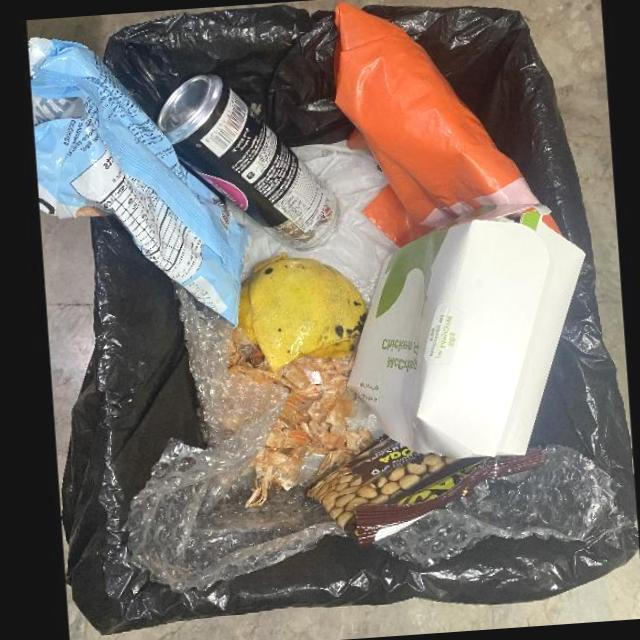bao_bi_thuc_pham: (26, 35, 250, 325), (305, 434, 543, 547)
carton: (345, 202, 585, 458)
nhom: (155, 72, 338, 251)
thuc_an_thua: (226, 326, 372, 507)
tui_ni_long: (125, 282, 348, 593), (333, 0, 563, 247), (376, 443, 622, 567)
vo_trai_cay: (231, 252, 366, 371)
